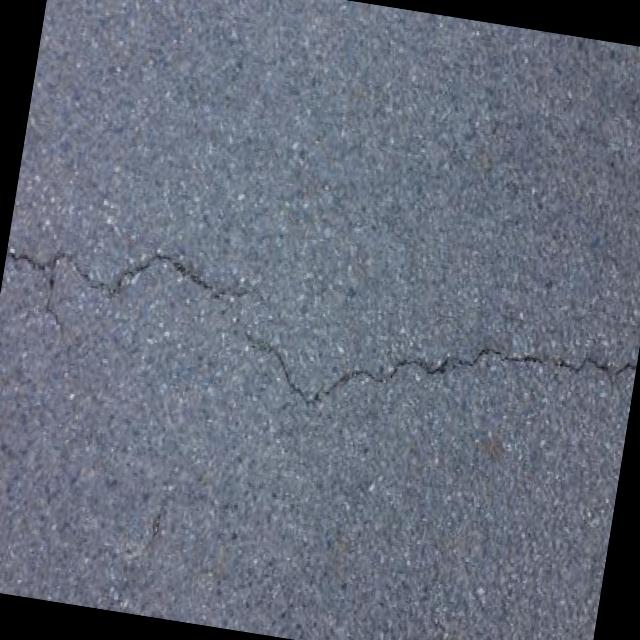Retak-Melintang: (246, 341, 634, 409), (10, 247, 228, 300)
